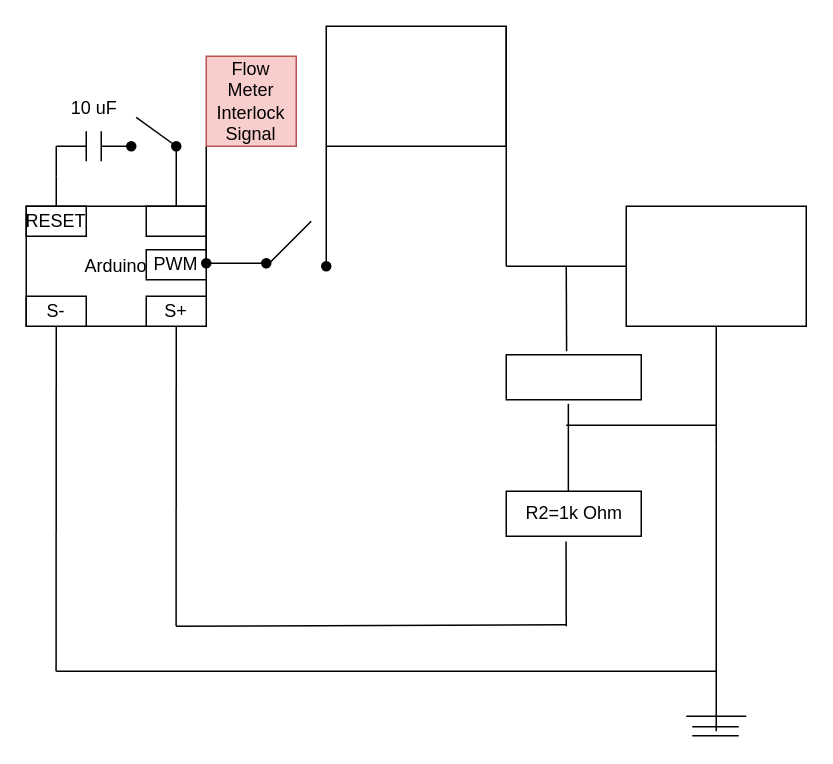
The diagram is 833 pixels wide and 764 high, and some of its shapes have lost their labels. Here are the shapes that lost their labels. From the top down, the centre of each, then its label:
At (x=415, y=85): "Const. Curr. Src.".
At (x=175, y=220): "5V".
At (x=715, y=265): "Oven".
At (x=573, y=376): "R1=15k Ohm".
